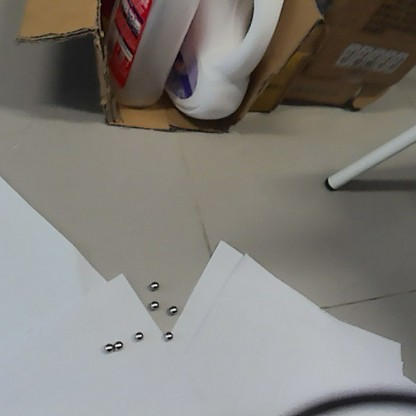ironball: (163, 304, 179, 316), (147, 298, 159, 313), (146, 277, 158, 291), (102, 341, 113, 353), (159, 329, 171, 339), (113, 340, 123, 351), (133, 331, 144, 340)
